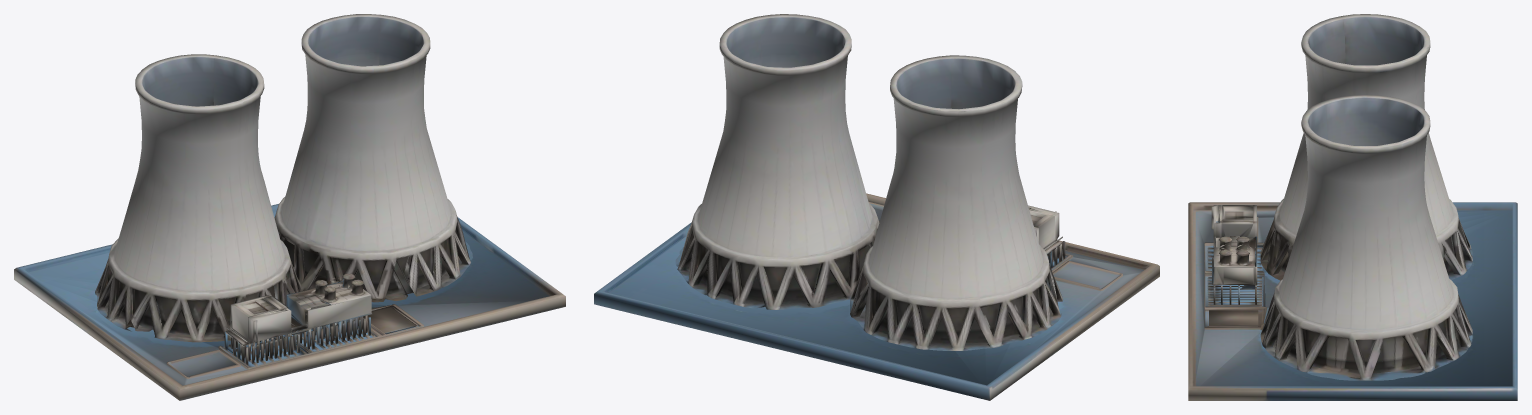
File: a_power_plant_c03d3c1b_v1.glb
3 views of the same model, side by side, from view 1: azimuth 30°, elevation 25°; view 2: azimuth 150°, elevation 25°; view 3: azimuth 270°, elevation 25° (orthographic). The views are drawn at different scales.
Parts seen in each view (by area): view 1: material; view 2: material; view 3: material.
Boxes of the visible parts, x1,y1,x2,y2 form: material: (14, 14, 565, 400); material: (594, 14, 1159, 400); material: (1188, 14, 1517, 400).
Size of the model in its own units: 1.9 by 1.07 by 1.41.
Materials: 1 (1 with a texture image).
